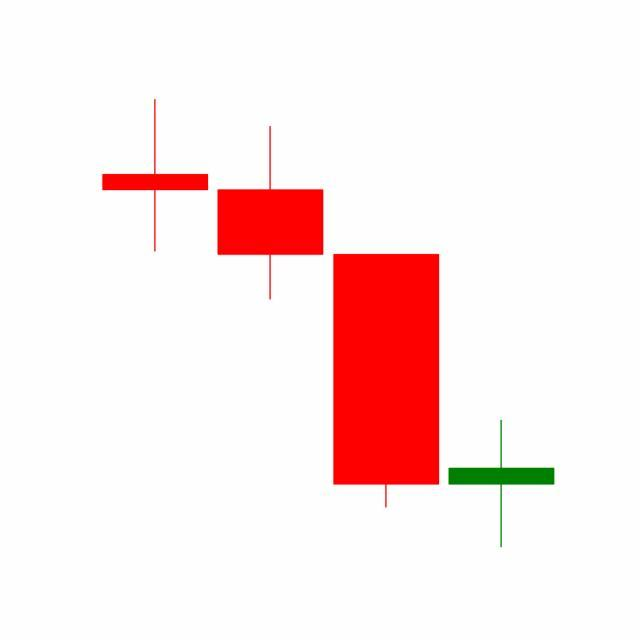Marubozu: (329, 252, 445, 512)
